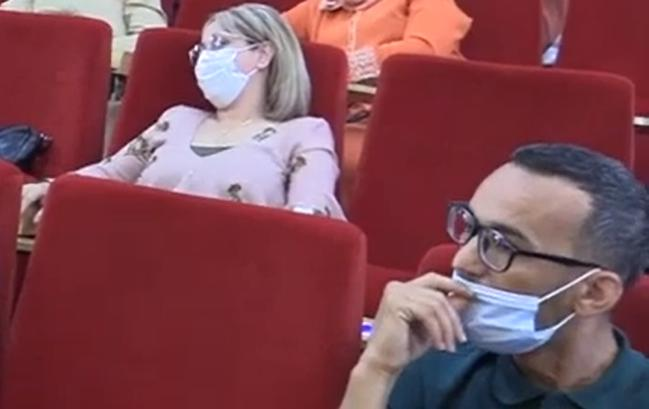with_incorrect_mask: (460, 226, 557, 330)
with_mask: (203, 35, 242, 93)
